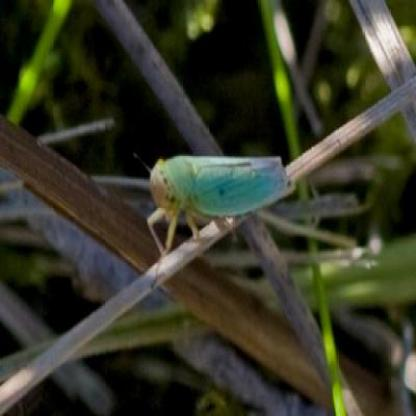Green-Leafhopper: (142, 151, 290, 250)
